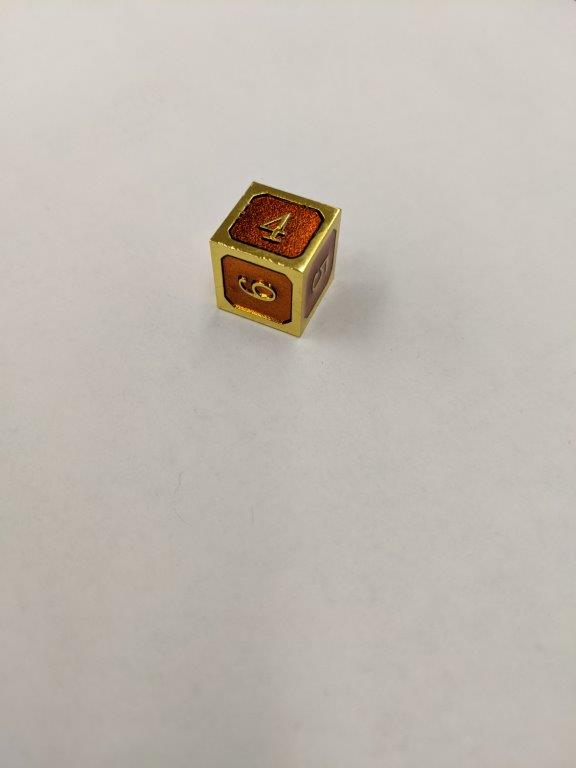d6-4: (210, 181, 341, 336)
